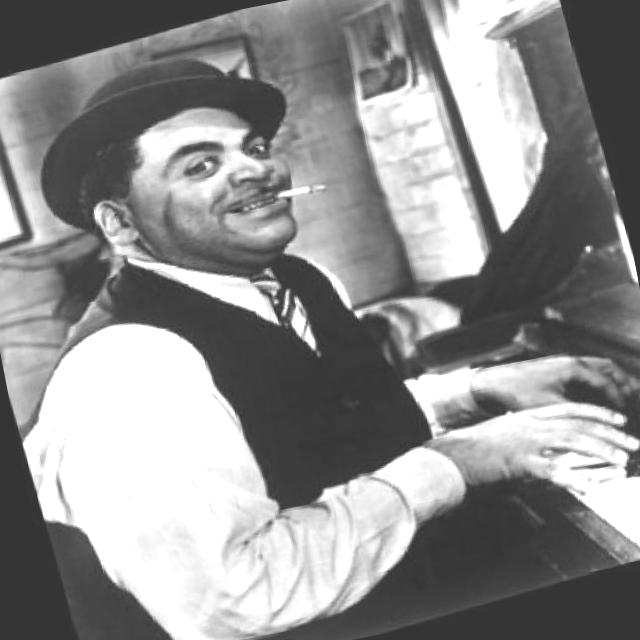smoke: (268, 178, 334, 210)
